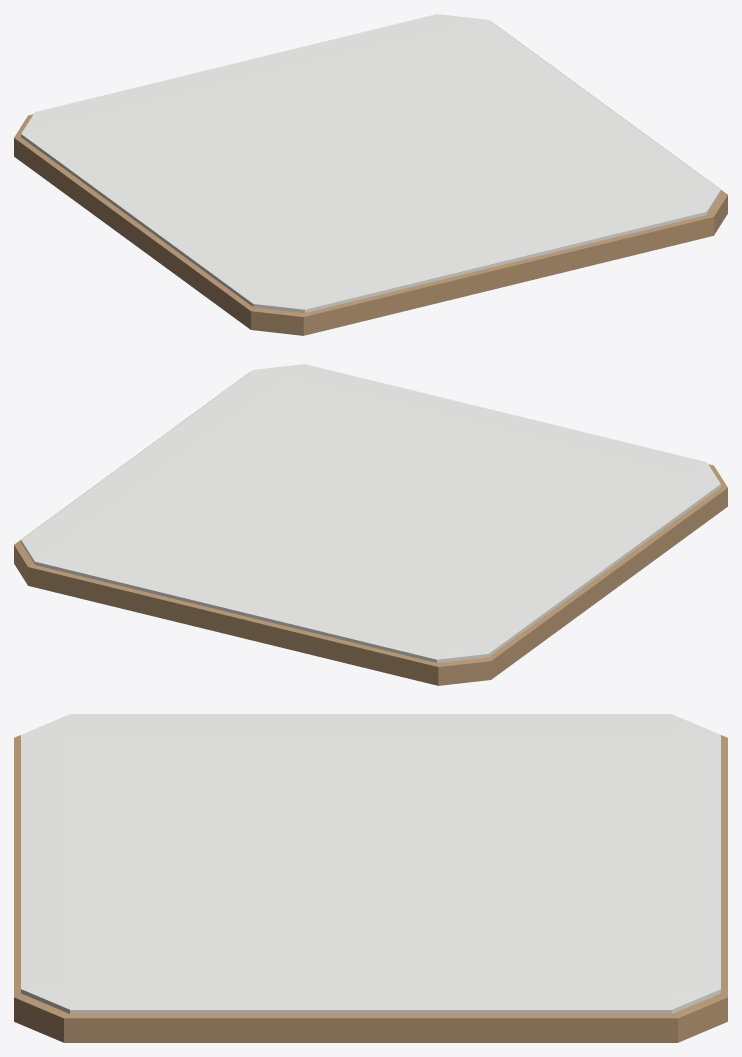
File: b21_ceiling_exposed_beams_4x4m.glb
3 views of the same model, one above another, from view 1: azimuth 30°, elevation 25°; view 2: azimuth 150°, elevation 25°; view 3: azimuth 270°, elevation 25° (orthographic). The views are drawn at different scales.
Visible parts, largest first — view 1: b21_ceiling_exposed_beams_4x4m; view 2: b21_ceiling_exposed_beams_4x4m; view 3: b21_ceiling_exposed_beams_4x4m.
Part boxes in pixels (x1,y1,x2,y2): b21_ceiling_exposed_beams_4x4m: (14,14,727,335); b21_ceiling_exposed_beams_4x4m: (14,364,727,685); b21_ceiling_exposed_beams_4x4m: (14,714,727,1042).
Size of the model in its own units: 4 by 0.2 by 4.
